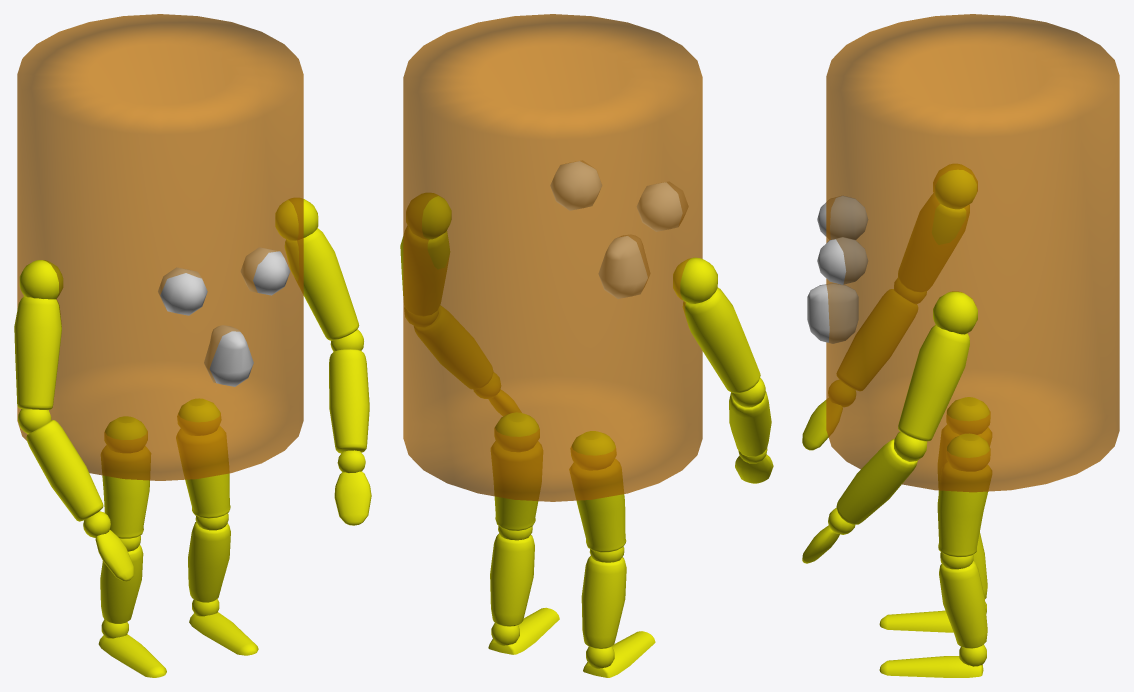
Rendered from Cuerpos Redondos - Cilindro -  11.fbx.
3 views of the same model, side by side, from view 1: azimuth 30°, elevation 25°; view 2: azimuth 150°, elevation 25°; view 3: azimuth 270°, elevation 25° (orthographic). The views are drawn at different scales.
Parts seen in each view (by area): view 1: Cuerpos Redondos - Cilindro - Cuerpo1; view 2: Cuerpos Redondos - Cilindro - Cuerpo1; view 3: Cuerpos Redondos - Cilindro - Cuerpo1.
Boxes of the visible parts, left/top/right/bottom form: Cuerpos Redondos - Cilindro - Cuerpo1: left=14, top=14, right=371, bottom=677; Cuerpos Redondos - Cilindro - Cuerpo1: left=400, top=14, right=773, bottom=677; Cuerpos Redondos - Cilindro - Cuerpo1: left=802, top=14, right=1119, bottom=677.
Size of the model in its own units: 122 by 191 by 96.27.
